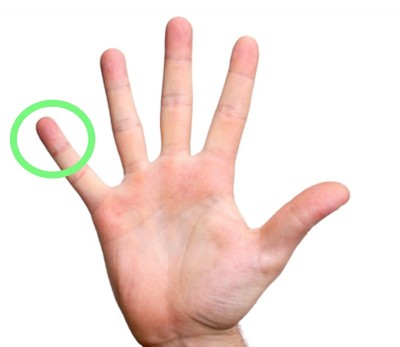mindinho: (25, 111, 115, 212)
